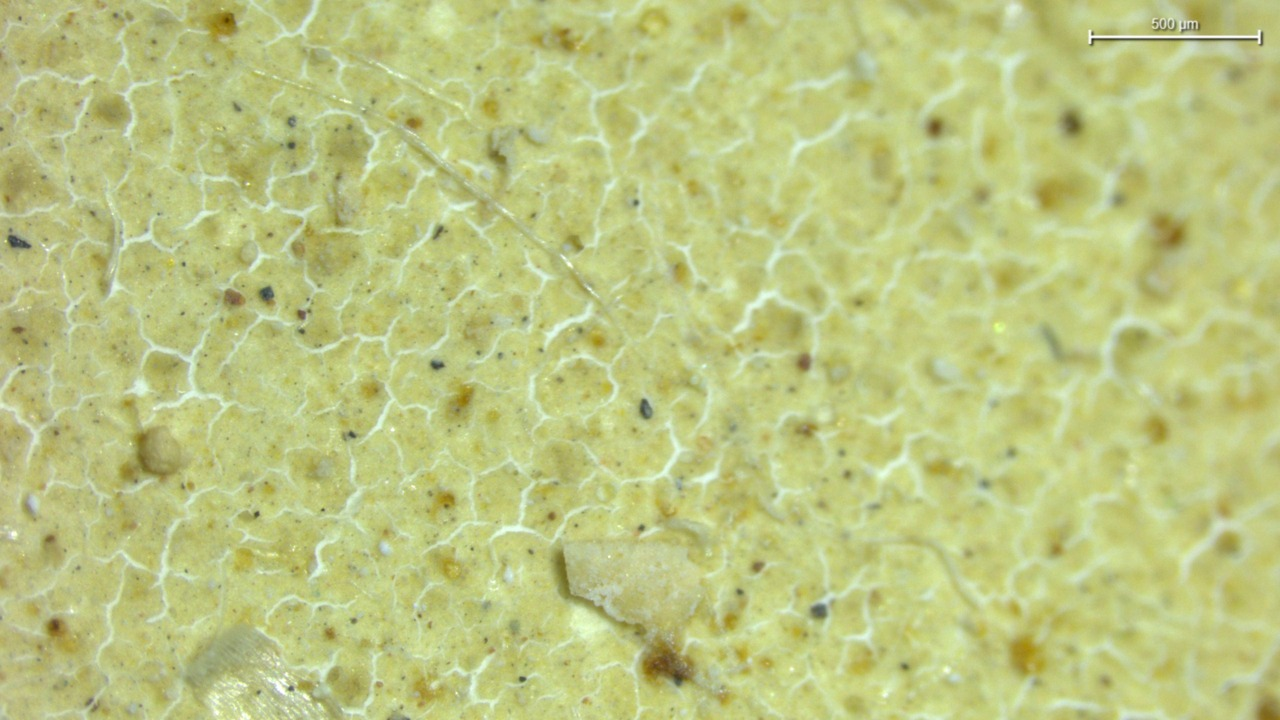microplastic_fragment: (186, 624, 342, 720), (564, 539, 704, 633), (137, 426, 183, 477)
